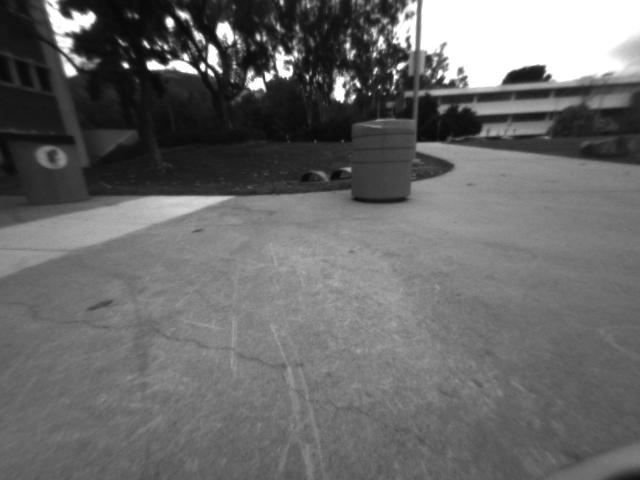trashcan: (7, 126, 94, 210), (348, 121, 413, 201)
